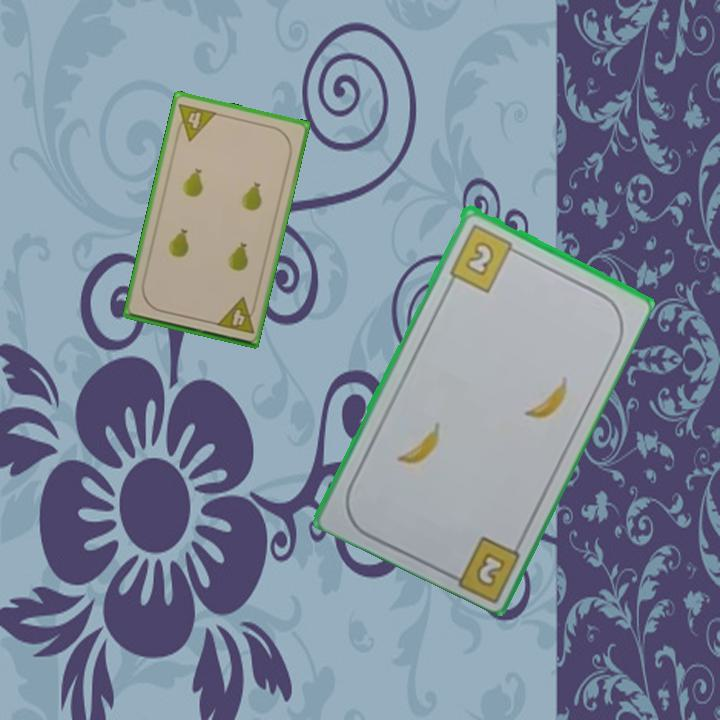2b: (445, 220, 523, 294), (472, 548, 508, 590)
4p: (172, 99, 219, 144), (212, 294, 259, 337)
